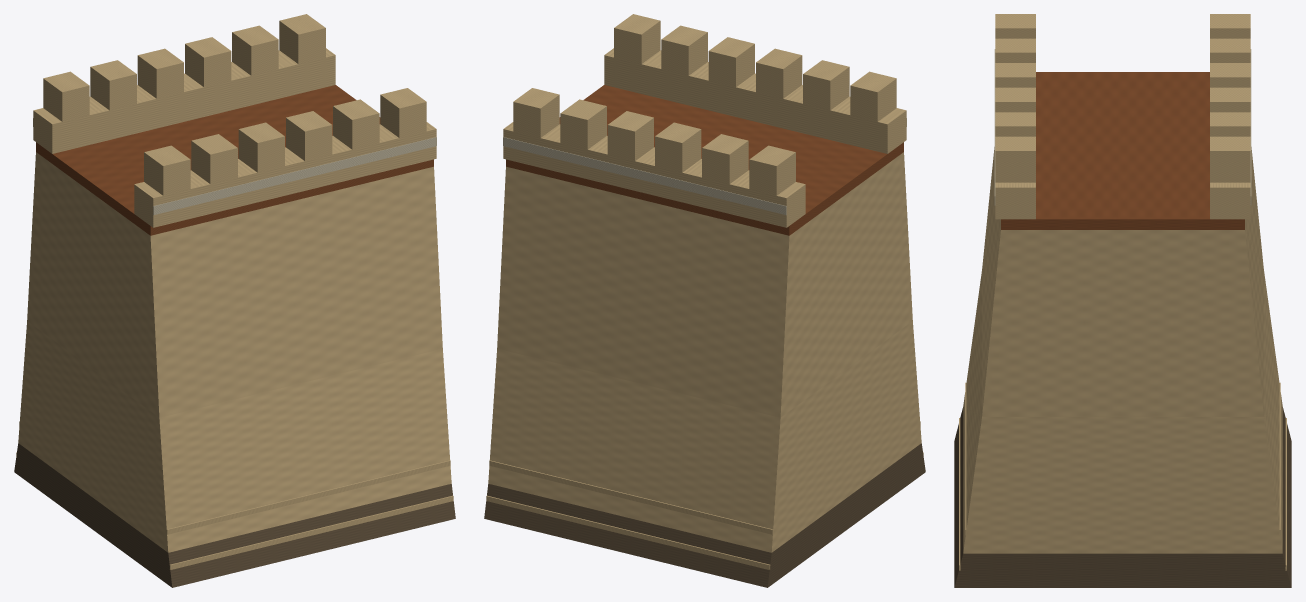
Rendered from Berber_Wall_Age3_straight_6m.fbx.
The picture shows the model from 3 angles, left to right: view 1: azimuth 30°, elevation 25°; view 2: azimuth 150°, elevation 25°; view 3: azimuth 270°, elevation 25°; orthographic projection. The views are drawn at different scales.
Parts seen in each view (by area): view 1: straight_6m_rammed_curtain_upper, straight_6m_rammed_curtain_lower, straight_6m_battered_stone_foot, straight_6m_walk_deck, straight_6m_parapet.001, straight_6m_parapet, straight_6m_owner_painted_band, straight_6m_merlon.002, straight_6m_merlon.006, straight_6m_merlon.004, straight_6m_merlon.005, straight_6m_merlon.003 (+10 smaller); view 2: straight_6m_rammed_curtain_upper, straight_6m_rammed_curtain_lower, straight_6m_battered_stone_foot, straight_6m_walk_deck, straight_6m_parapet, straight_6m_parapet.001, straight_6m_owner_painted_band.001, straight_6m_merlon, straight_6m_merlon.008, straight_6m_merlon.005, straight_6m_merlon.004, straight_6m_merlon.007 (+9 smaller); view 3: straight_6m_rammed_curtain_upper, straight_6m_rammed_curtain_lower, straight_6m_walk_deck, straight_6m_battered_stone_foot, straight_6m_merlon.011, straight_6m_merlon.005, straight_6m_parapet, straight_6m_parapet.001, straight_6m_merlon.009, straight_6m_merlon.003, straight_6m_merlon, straight_6m_merlon.002 (+6 smaller).
Boxes of the visible parts, box(x1,y1,x2,y2) form: straight_6m_rammed_curtain_upper: box(27, 152, 442, 417); straight_6m_rammed_curtain_lower: box(18, 321, 451, 552); straight_6m_battered_stone_foot: box(14, 443, 455, 587); straight_6m_walk_deck: box(36, 85, 433, 235); straight_6m_parapet.001: box(33, 48, 335, 153); straight_6m_parapet: box(134, 122, 436, 227); straight_6m_owner_painted_band: box(153, 137, 436, 215); straight_6m_merlon.002: box(238, 122, 284, 172); straight_6m_merlon.006: box(43, 71, 89, 121); straight_6m_merlon.004: box(333, 99, 379, 149); straight_6m_merlon.005: box(380, 88, 426, 137); straight_6m_merlon.003: box(286, 111, 332, 160); straight_6m_rammed_curtain_upper: box(497, 152, 912, 417); straight_6m_rammed_curtain_lower: box(488, 321, 921, 552); straight_6m_battered_stone_foot: box(484, 443, 925, 587); straight_6m_walk_deck: box(506, 85, 903, 235); straight_6m_parapet: box(604, 48, 906, 153); straight_6m_parapet.001: box(503, 122, 805, 227); straight_6m_owner_painted_band.001: box(503, 137, 786, 215); straight_6m_merlon: box(850, 71, 896, 121); straight_6m_merlon.008: box(655, 122, 701, 172); straight_6m_merlon.005: box(614, 14, 660, 64); straight_6m_merlon.004: box(661, 25, 707, 75); straight_6m_merlon.007: box(702, 134, 748, 184); straight_6m_rammed_curtain_upper: box(982, 147, 1263, 416); straight_6m_rammed_curtain_lower: box(963, 271, 1282, 553); straight_6m_walk_deck: box(1001, 72, 1244, 229); straight_6m_battered_stone_foot: box(954, 407, 1291, 587); straight_6m_merlon.011: box(1210, 136, 1250, 182); straight_6m_merlon.005: box(995, 136, 1035, 182); straight_6m_parapet: box(995, 182, 1035, 219); straight_6m_parapet.001: box(1210, 182, 1250, 219); straight_6m_merlon.009: box(1210, 87, 1250, 112); straight_6m_merlon.003: box(995, 87, 1035, 112); straight_6m_merlon: box(995, 14, 1035, 38); straight_6m_merlon.002: box(995, 63, 1035, 87).
Bounding box in the file's own units: 600 × 820 × 580.
4 materials, 4 textured.
